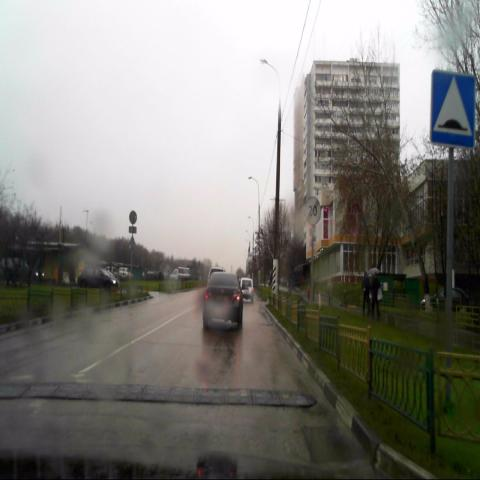3_25: (304, 196, 320, 224)
